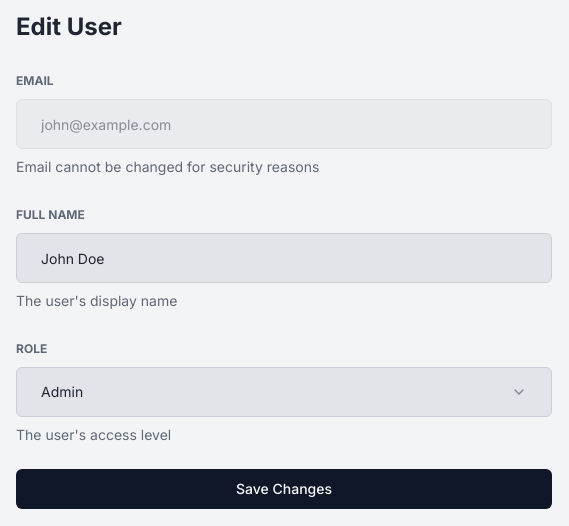
EditUserForm › displays loading state (spinner) when form is submitted
Replace the text in the field labelled "Full Name" with "Updated Name" at x=284, y=258, box [16,233,552,283]
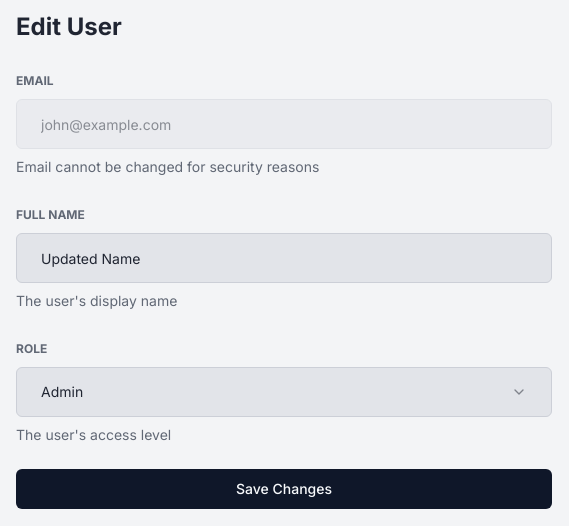
Click the button "Save Changes".
click(284, 489)  # box [16,469,552,509]
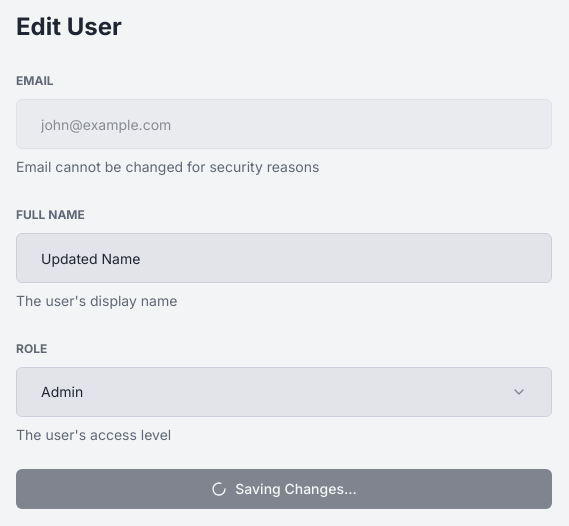
Expected: the button named "save changes" is disabled, [16,469,552,509]
